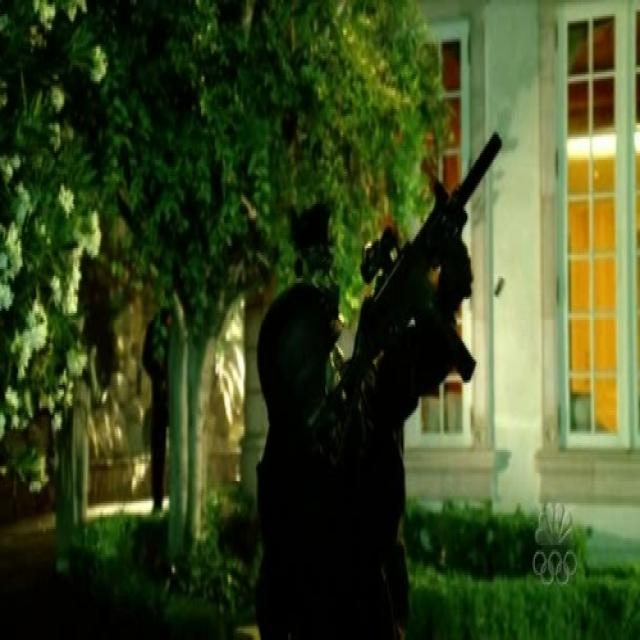rifle: (321, 129, 507, 458)
